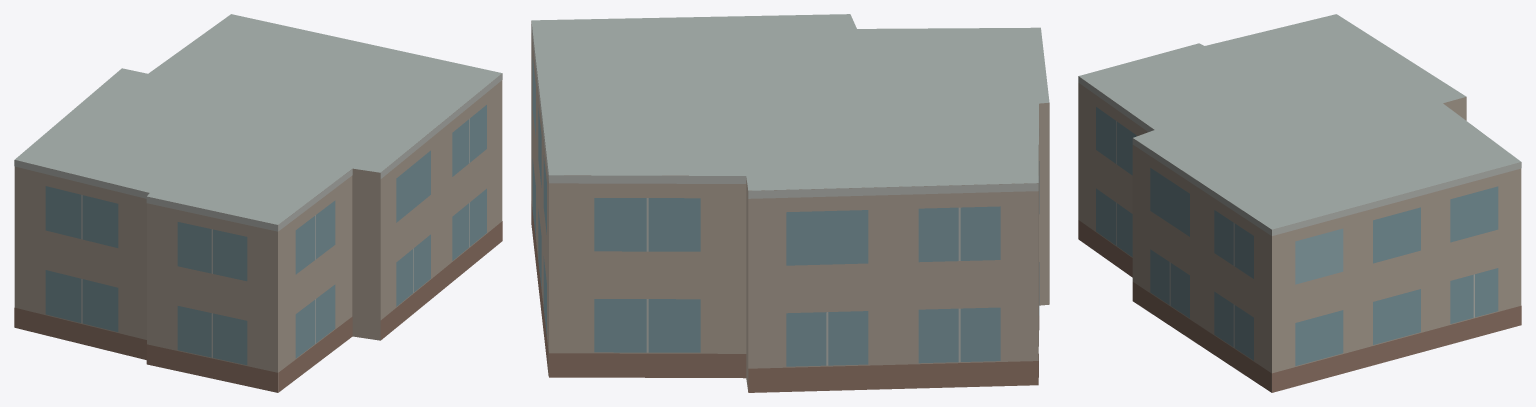
Rendered from survey-upis-32878911.glb.
The picture shows the model from 3 angles, left to right: view 1: azimuth 30°, elevation 25°; view 2: azimuth 150°, elevation 25°; view 3: azimuth 270°, elevation 25°; orthographic projection. The views are drawn at different scales.
Visible parts, largest first — view 1: survey-upis-32878911.tmp; view 2: survey-upis-32878911.tmp; view 3: survey-upis-32878911.tmp.
Part boxes in pixels (x1=…): survey-upis-32878911.tmp: x1=14, y1=14, x2=502, y2=392; survey-upis-32878911.tmp: x1=531, y1=14, x2=1049, y2=392; survey-upis-32878911.tmp: x1=1078, y1=14, x2=1521, y2=392.
Size of the model in its own units: 17.3 by 6.1 by 15.02.
